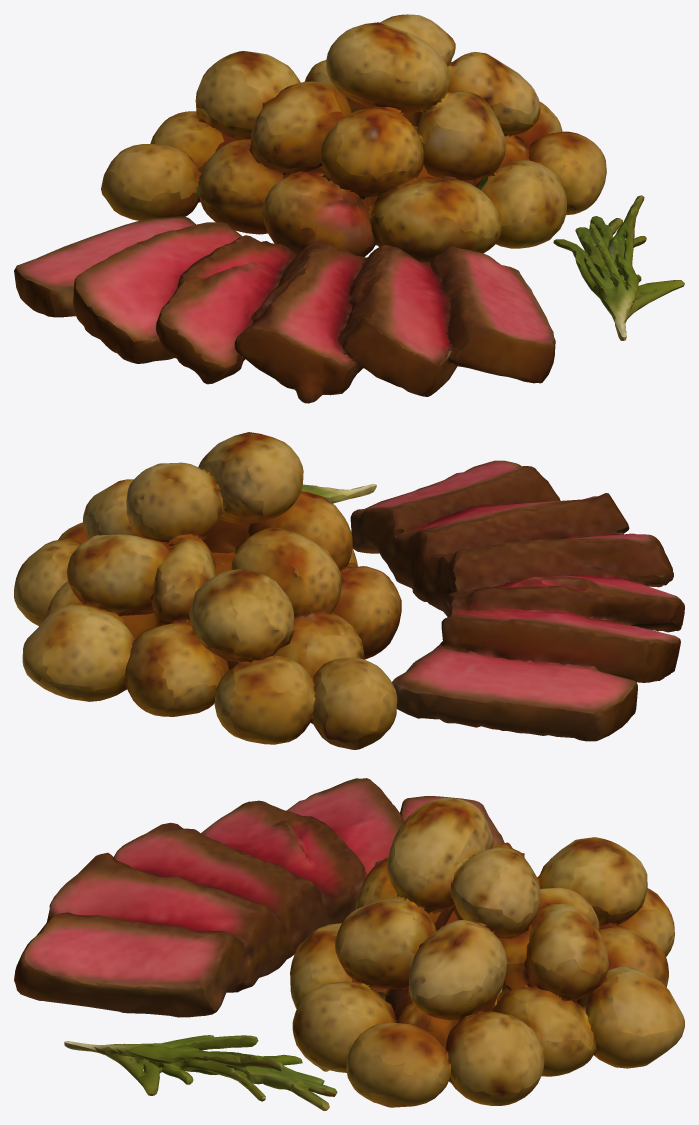
File: tagliata2.glb
The picture shows the model from 3 angles, top to bottom: view 1: azimuth 30°, elevation 25°; view 2: azimuth 150°, elevation 25°; view 3: azimuth 270°, elevation 25°; orthographic projection. The views are drawn at different scales.
Visible parts, largest first — view 1: textured_mesh.obj; view 2: textured_mesh.obj; view 3: textured_mesh.obj.
Boxes of the visible parts, box(x1,y1,x2,y2) form: textured_mesh.obj: box(14, 14, 684, 403); textured_mesh.obj: box(14, 432, 684, 749); textured_mesh.obj: box(14, 778, 684, 1110).
Bounding box in the file's own units: 1.98 × 0.6826 × 1.96.
Materials: 1 (1 with a texture image).
